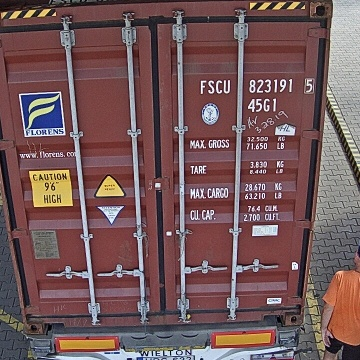serial_id: (200, 78, 314, 93)
